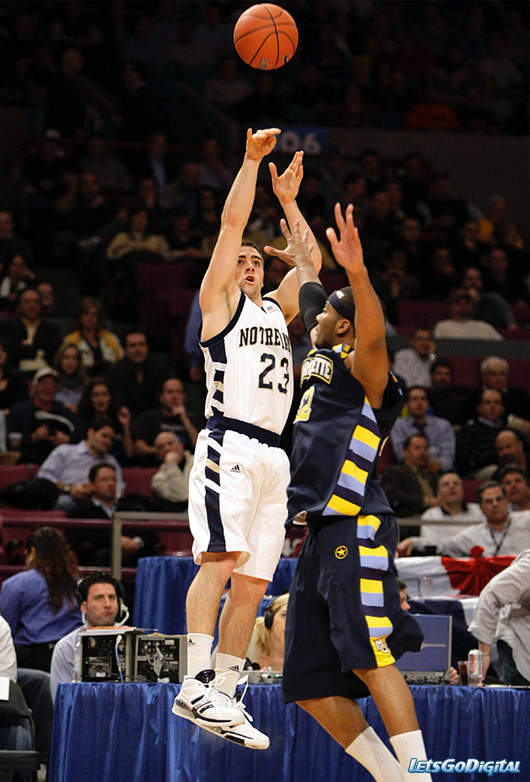basketball: (231, 3, 297, 70)
